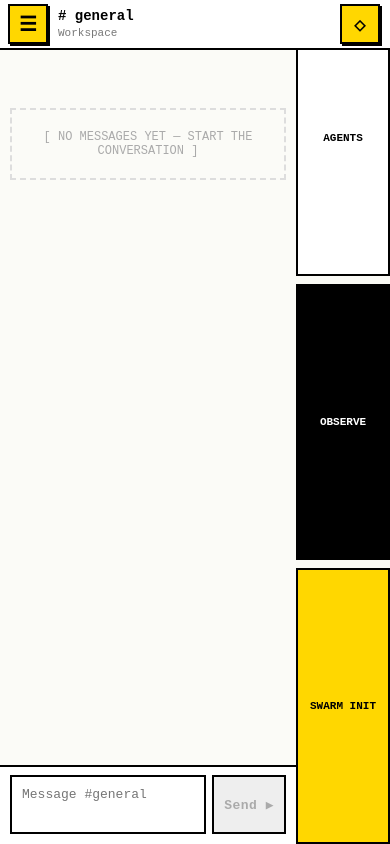
Test: App › keeps the agent panel collapsed until explicitly opened
Expected: the text "Workspace" is shown, [58,27,117,39]
Expected: the text "+ NEW" is not shown
Click the button named "Open agents". click: (360, 24)
box: [340,4,380,44]
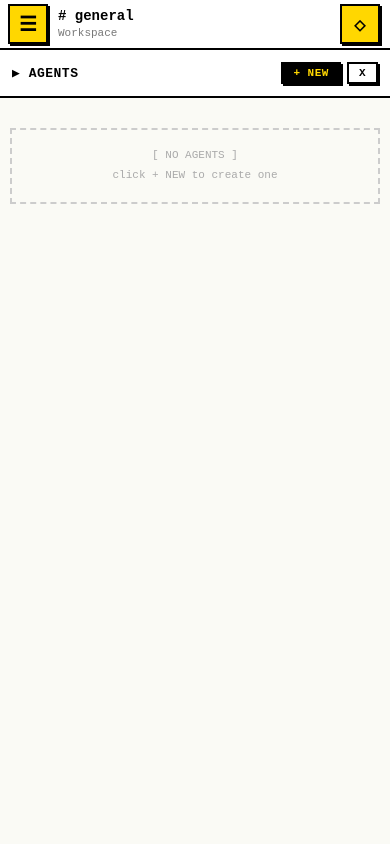
Expected: the button "+ NEW" is shown, [281,62,341,84]
